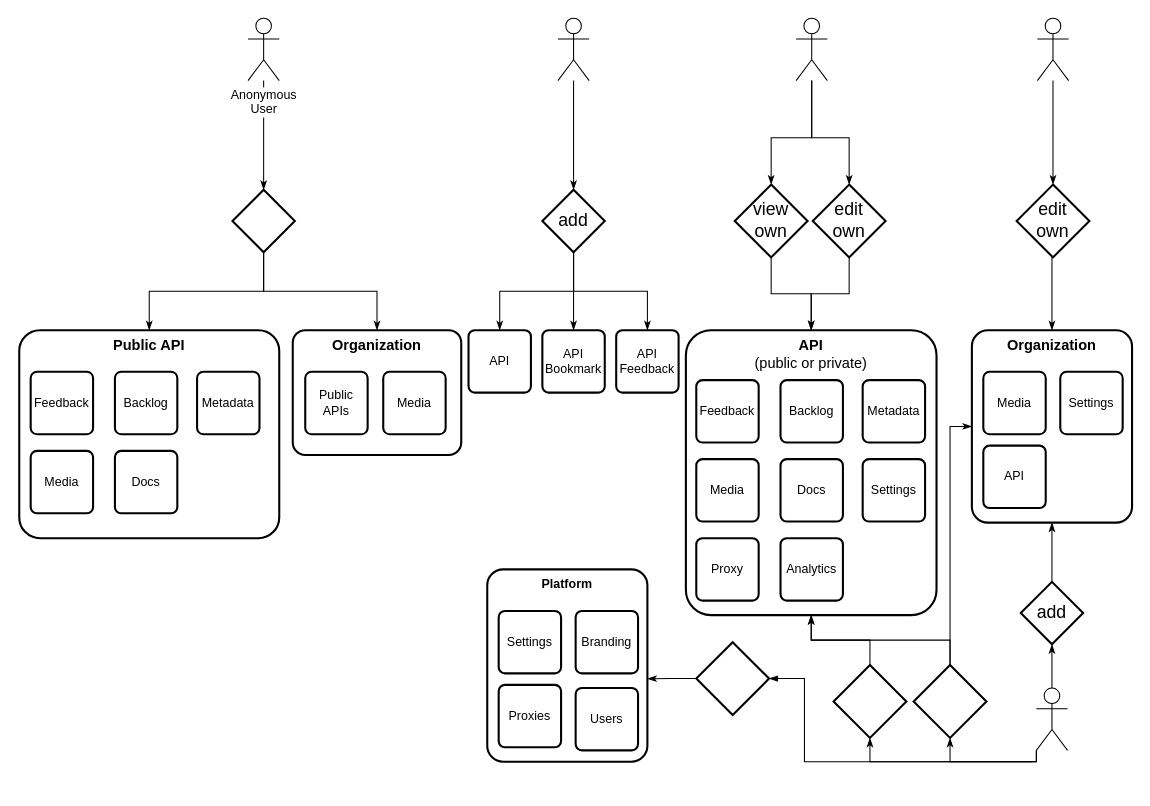
Some shapes in this 1150 by 806 pixel diagram are drawn without their labels. Here are the shapes that lost their labels. From the top down, the centre of each, then its label:
At pixel 573 49: "Authenticated User".
At pixel 811 49: "API Manager".
At pixel 1052 49: "Organization Manager".
At pixel 263 220: "view".
At pixel 732 678: "add/ edit".
At pixel 869 701: "view any".
At pixel 949 701: "edit any".
At pixel 1051 718: "Admin User".
